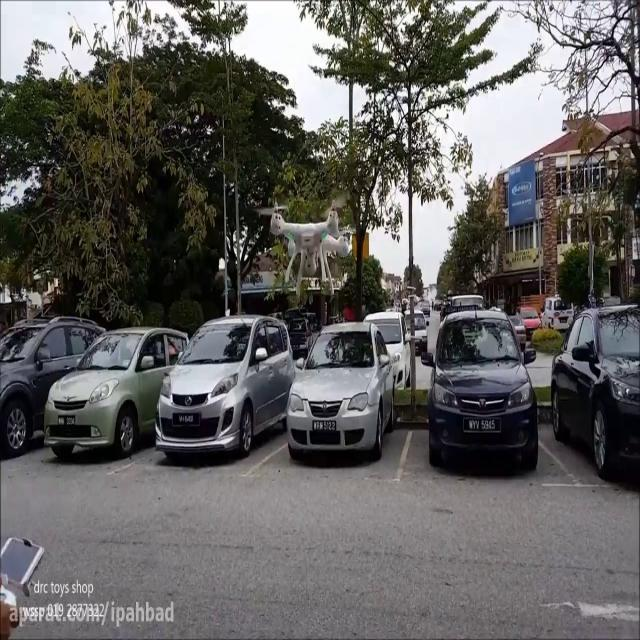drone: (261, 192, 356, 295)
